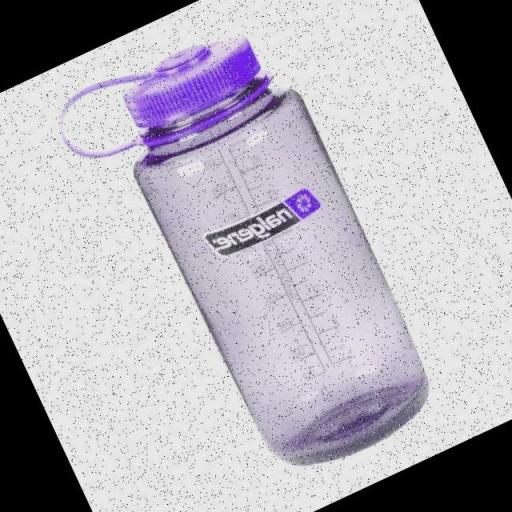bottle: (92, 11, 451, 492)
